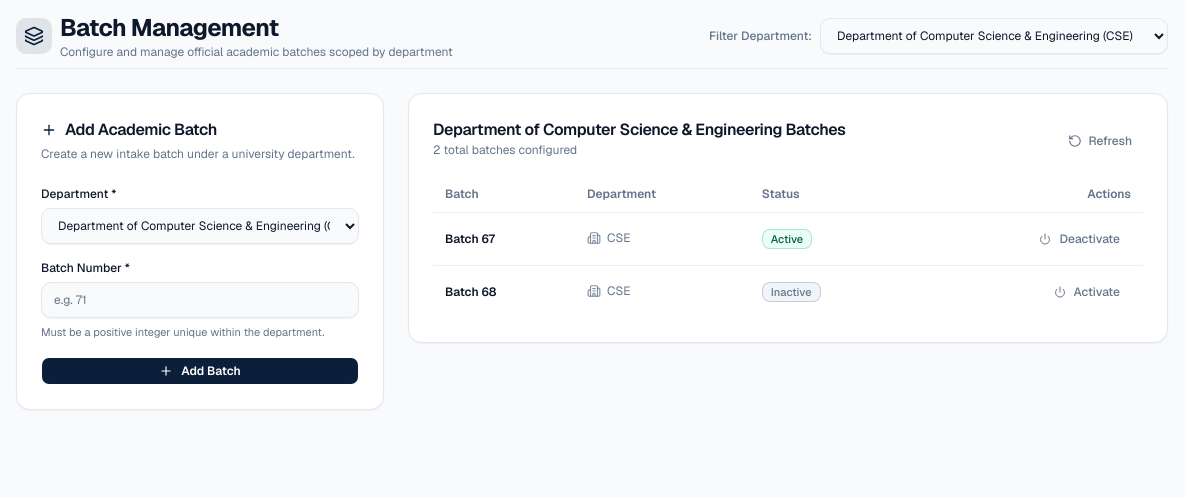
BatchManagementView › successfully creates a new batch and refreshes the batch list
Expected: the text "Batch 67" is shown, [433,212,575,266]
Type "71" into the number field labelled "Batch Number *" at (200, 300), box [41,282,359,318]
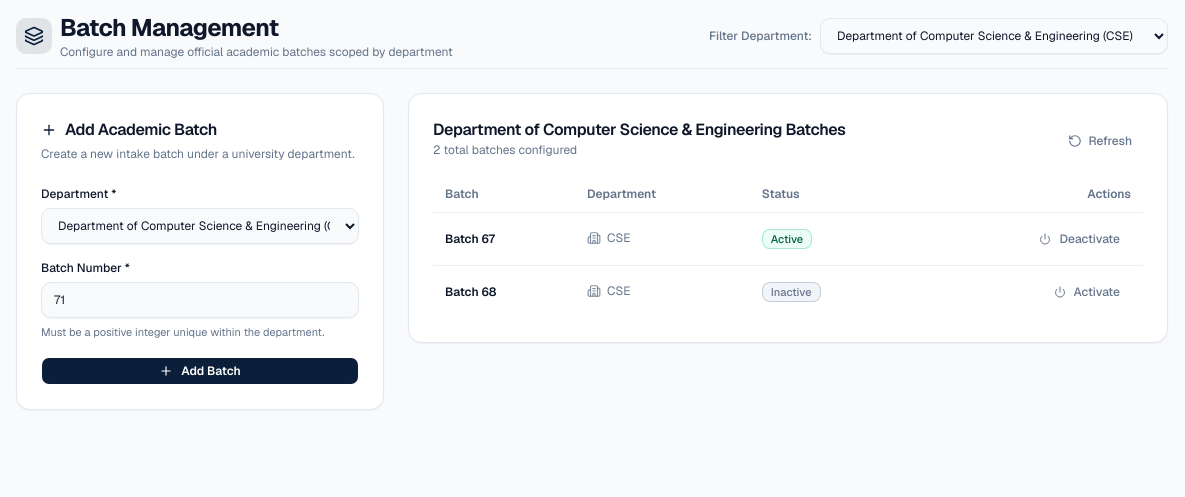
Click the button "Add Batch" at (200, 370), box [41,356,359,384]
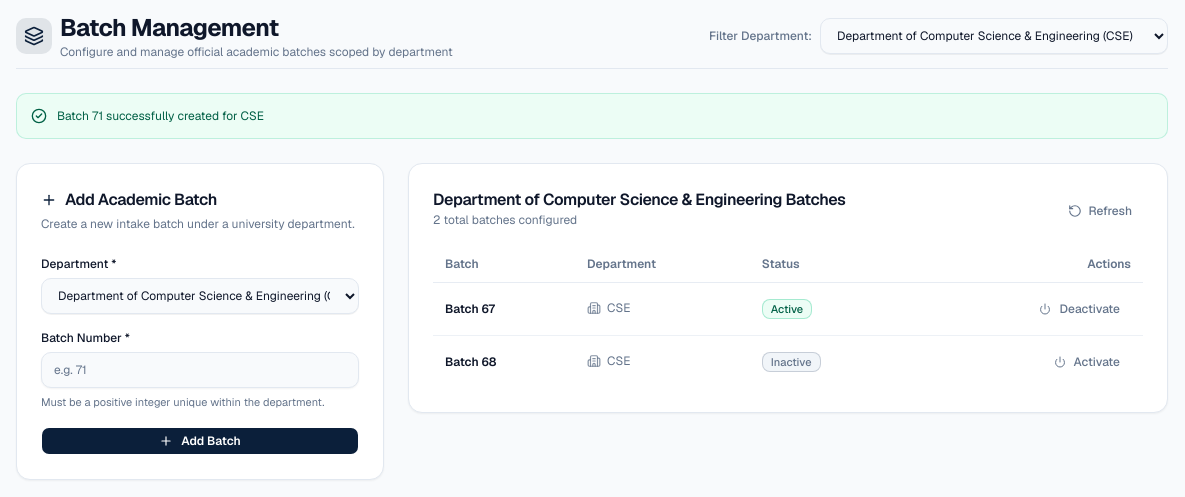
Now the text "Batch 71 successfully created for CSE" is shown, box [57,108,264,124]
